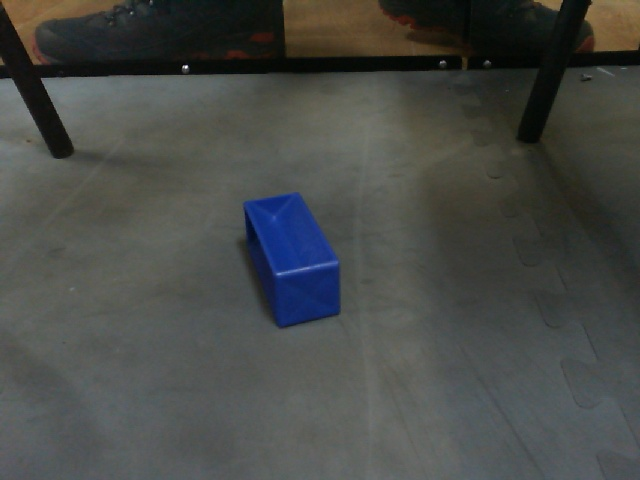BlueSample: (237, 189, 346, 331)
